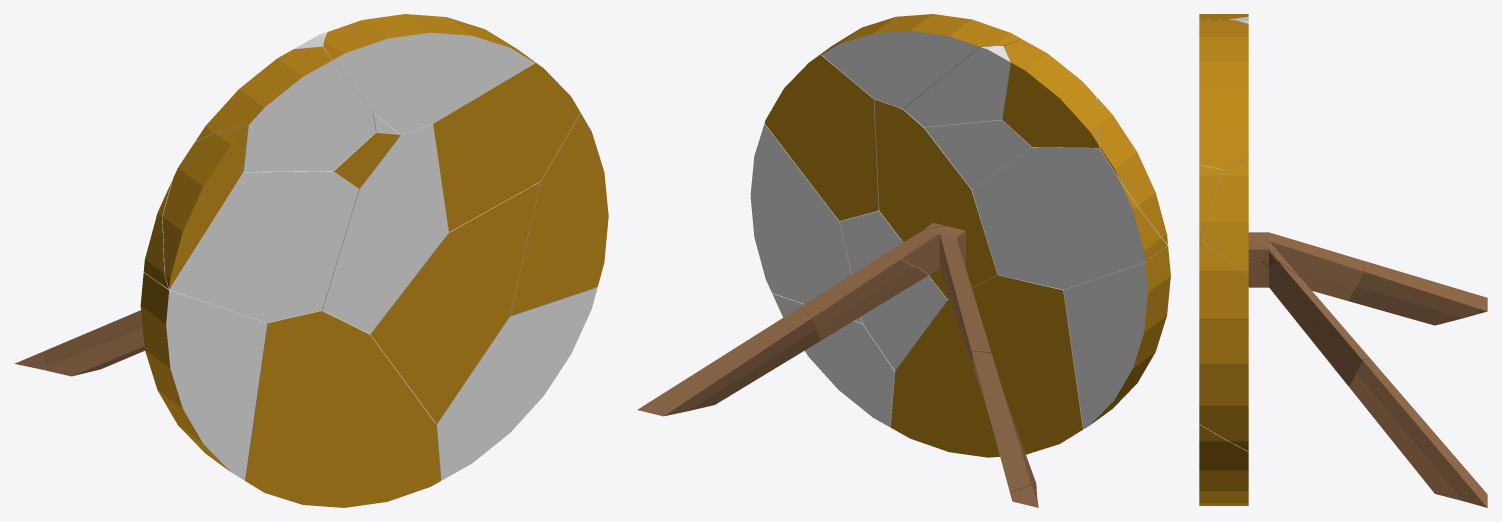
File: TargetGoldBroken.fbx
3 renders of one model, left to right at view 1: azimuth 30°, elevation 25°; view 2: azimuth 150°, elevation 25°; view 3: azimuth 270°, elevation 25°, orthographic. The views are drawn at different scales.
Visible parts, largest first — view 1: Cylinder_cell.013, Cylinder_cell.004, Cylinder_cell.005, Cylinder_cell.007, Cylinder_cell.002, Cylinder_cell.006, Cylinder_cell.012, Cylinder_cell.003, Cylinder_cell.001, Cylinder_cell.011, Cylinder_cell.009, Cube_cell.001 (+1 smaller); view 2: Cylinder_cell.013, Cylinder_cell.004, Cylinder_cell, Cylinder_cell.007, Cylinder_cell.011, Cylinder_cell.006, Cylinder_cell.002, Cylinder_cell.003, Cube_cell.003, Cylinder_cell.005, Cylinder_cell.001, Cylinder_cell.008 (+5 smaller); view 3: Cylinder_cell.011, Cylinder_cell.002, Cube_cell.003, Cube_cell.001, Cube_cell.006, Cube_cell.002, Cylinder_cell, Cylinder_cell.001, Cylinder_cell.012.
Boxes of the visible parts, x1,y1,x2,y2 form: Cylinder_cell.013: (245, 310, 440, 507); Cylinder_cell.004: (143, 171, 358, 322); Cylinder_cell.005: (370, 182, 540, 423); Cylinder_cell.007: (140, 272, 267, 480); Cylinder_cell.002: (323, 14, 534, 134); Cylinder_cell.006: (322, 123, 448, 333); Cylinder_cell.012: (433, 57, 580, 232); Cylinder_cell.003: (195, 47, 375, 171); Cylinder_cell.001: (436, 287, 597, 480); Cylinder_cell.011: (509, 113, 608, 316); Cylinder_cell.009: (162, 125, 248, 289); Cube_cell.001: (42, 310, 144, 376); Cylinder_cell.013: (890, 275, 1083, 457); Cylinder_cell.004: (972, 145, 1167, 289); Cylinder_cell: (764, 52, 878, 220); Cylinder_cell.007: (1063, 245, 1170, 429); Cylinder_cell.011: (750, 123, 862, 322); Cylinder_cell.006: (873, 98, 997, 299); Cylinder_cell.002: (822, 14, 1020, 108); Cylinder_cell.003: (1002, 39, 1099, 147); Cube_cell.003: (637, 307, 821, 416); Cylinder_cell.005: (839, 209, 949, 370); Cylinder_cell.001: (772, 293, 895, 427); Cylinder_cell.008: (903, 46, 1010, 126); Cylinder_cell.011: (1199, 243, 1248, 451); Cylinder_cell.002: (1199, 19, 1248, 169); Cube_cell.003: (1349, 358, 1487, 507); Cube_cell.001: (1349, 260, 1479, 325); Cube_cell.006: (1248, 262, 1369, 386); Cube_cell.002: (1248, 232, 1364, 301); Cylinder_cell: (1203, 158, 1248, 275); Cylinder_cell.001: (1199, 424, 1248, 505); Cylinder_cell.012: (1199, 164, 1223, 244).
Size of the model in its own units: 202 by 200 by 117.
